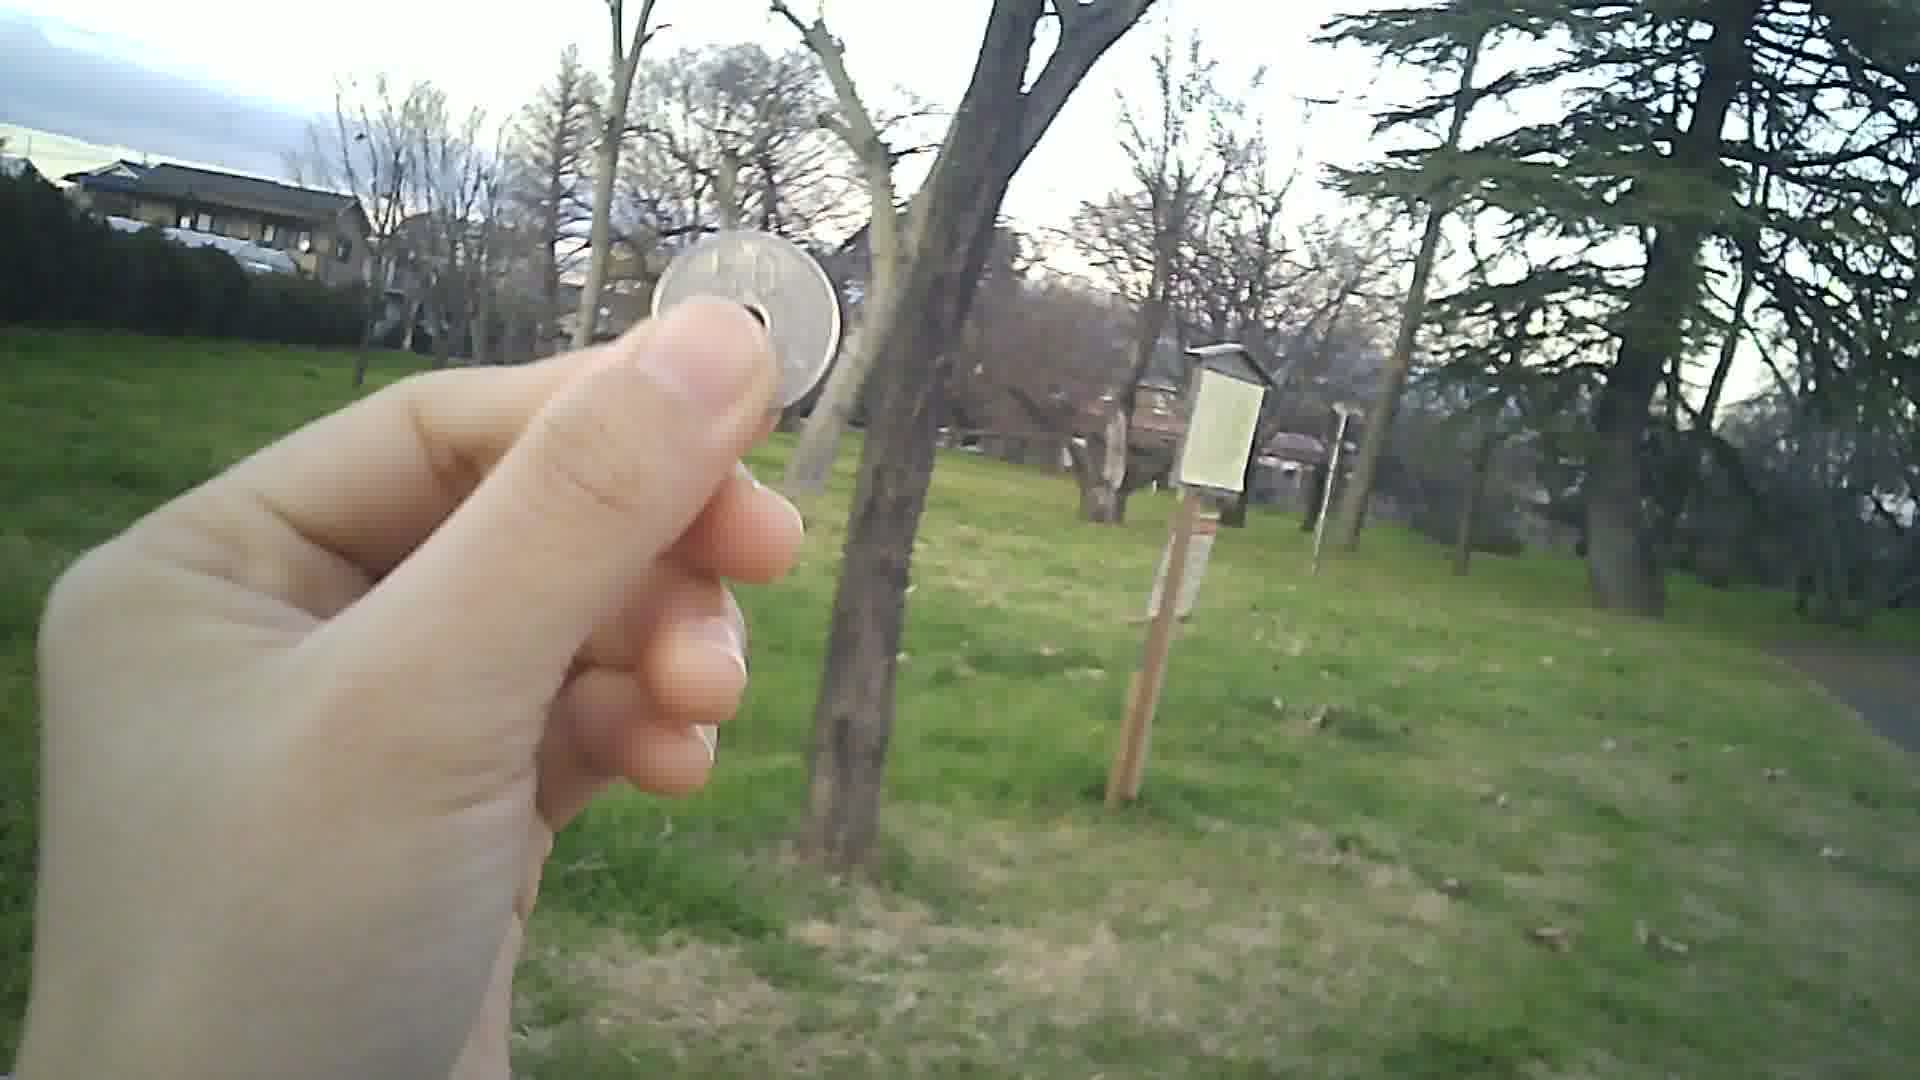50 Yen: (647, 222, 843, 411)
